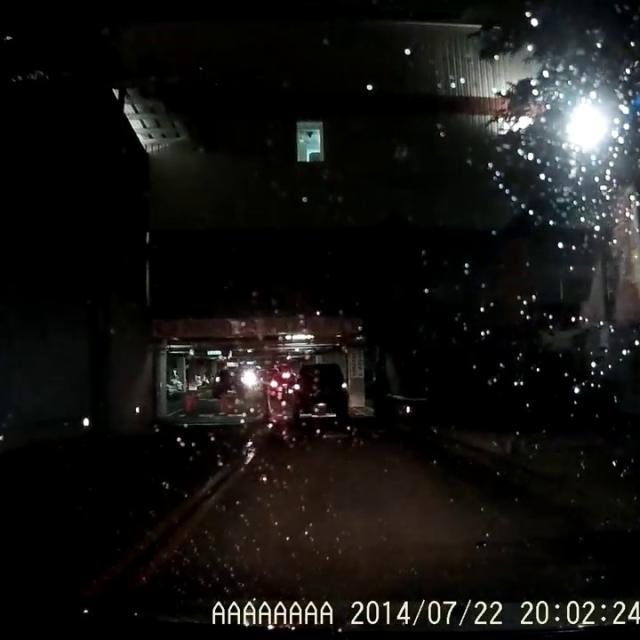Car: (289, 361, 349, 418), (209, 368, 247, 399), (265, 370, 295, 400)
